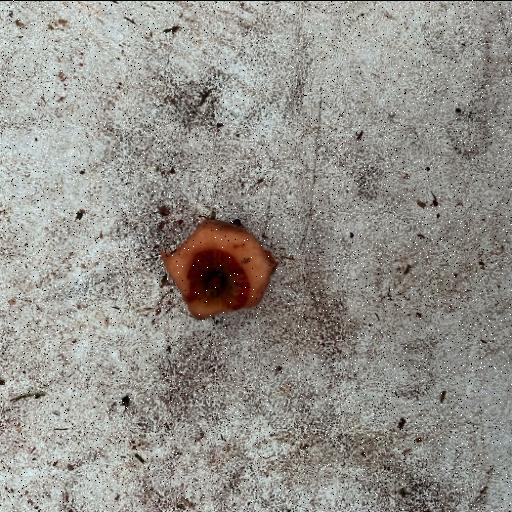Waste: (160, 217, 278, 321)
